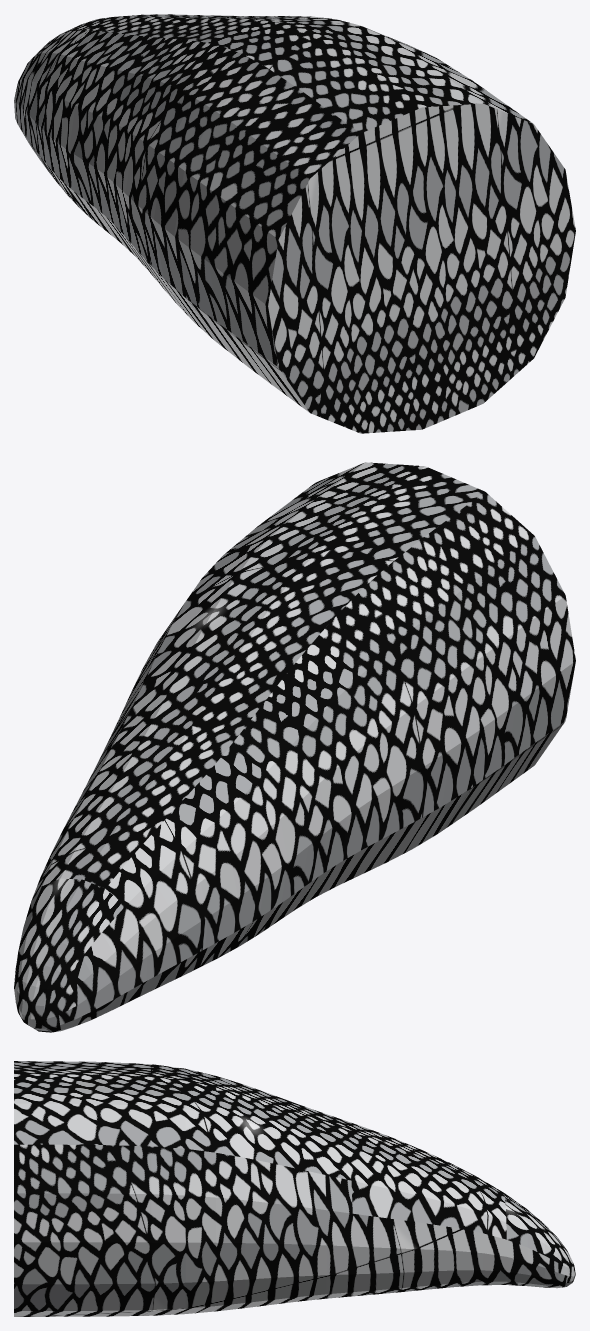
Rendered from snake_tail.glb.
3 views of the same model, one above another, from view 1: azimuth 30°, elevation 25°; view 2: azimuth 150°, elevation 25°; view 3: azimuth 270°, elevation 25° (orthographic). The views are drawn at different scales.
Visible parts, largest first — view 1: Cube.002; view 2: Cube.002; view 3: Cube.002.
Part boxes in pixels (bbox=[...]): Cube.002: bbox=[14, 14, 575, 433]; Cube.002: bbox=[14, 462, 575, 1032]; Cube.002: bbox=[14, 1061, 575, 1316].
Size of the model in its own units: 4.67 by 4.67 by 10.37.
Materials: 1 (1 with a texture image).
